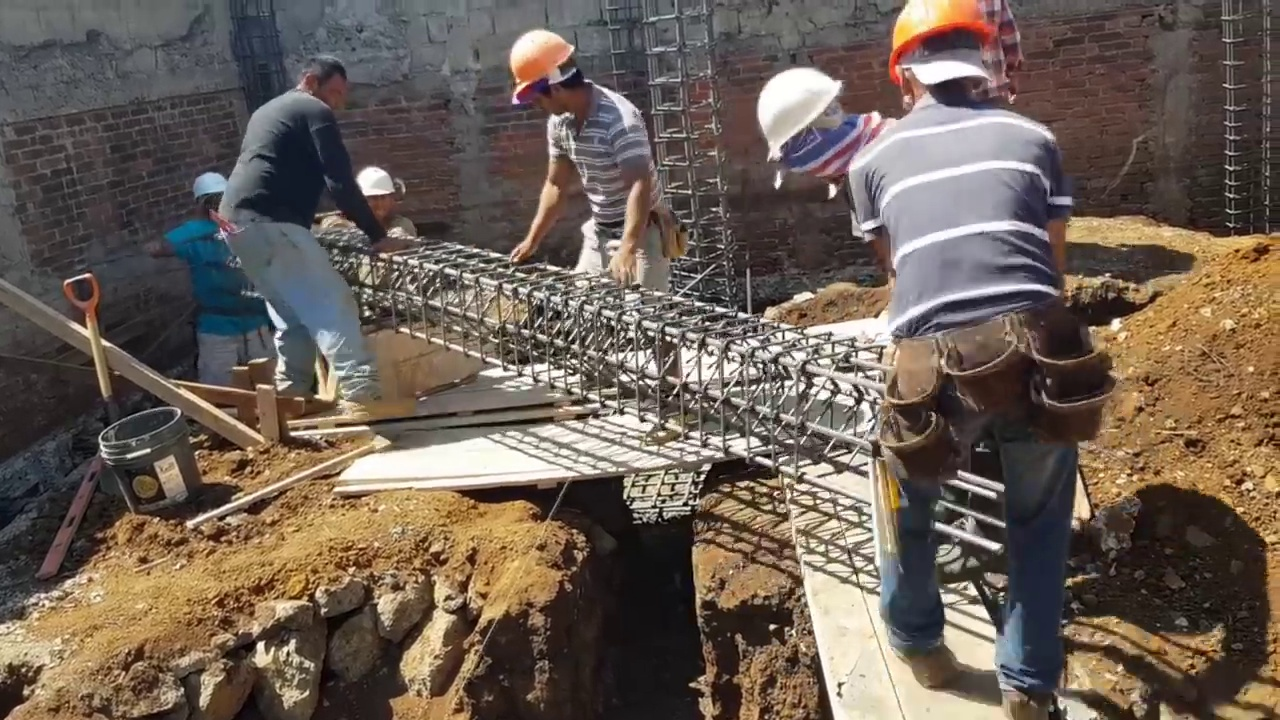helmet: (889, 4, 1011, 83), (761, 64, 850, 162), (505, 34, 580, 105), (352, 166, 396, 199), (192, 173, 228, 201)
helmet-off: (289, 58, 349, 108)
helmet-on: (883, 4, 1014, 116), (758, 64, 876, 182), (507, 34, 593, 114), (353, 165, 401, 228), (192, 172, 228, 222)
person: (843, 0, 1093, 720), (225, 52, 394, 399), (503, 28, 671, 291), (157, 162, 253, 384), (341, 163, 421, 320)
